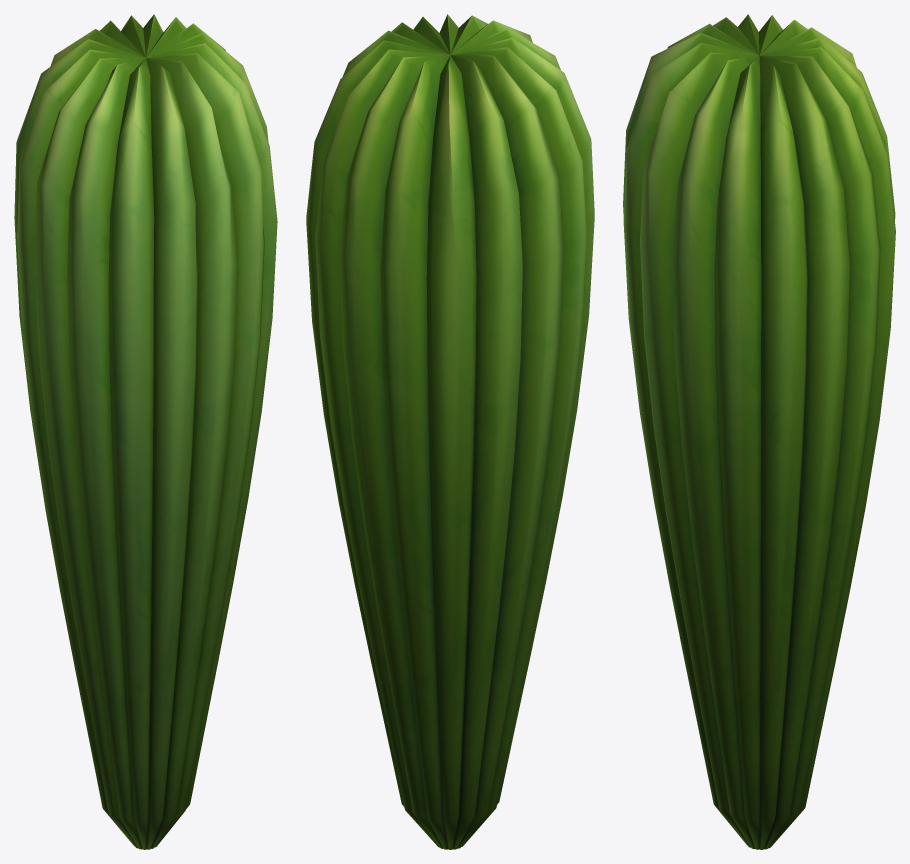
Rendered from DE_Cactus_25.fbx.
3 renders of one model, left to right at view 1: azimuth 30°, elevation 25°; view 2: azimuth 150°, elevation 25°; view 3: azimuth 270°, elevation 25°, orthographic.
Parts seen in each view (by area): view 1: DE_Cactus_25; view 2: DE_Cactus_25; view 3: DE_Cactus_25.
Boxes of the visible parts, box(x1,y1,x2,y2) form: DE_Cactus_25: box(14, 14, 277, 849); DE_Cactus_25: box(306, 14, 594, 849); DE_Cactus_25: box(623, 14, 895, 849).
Bounding box in the file's own units: 2.41 × 7.73 × 2.37.
